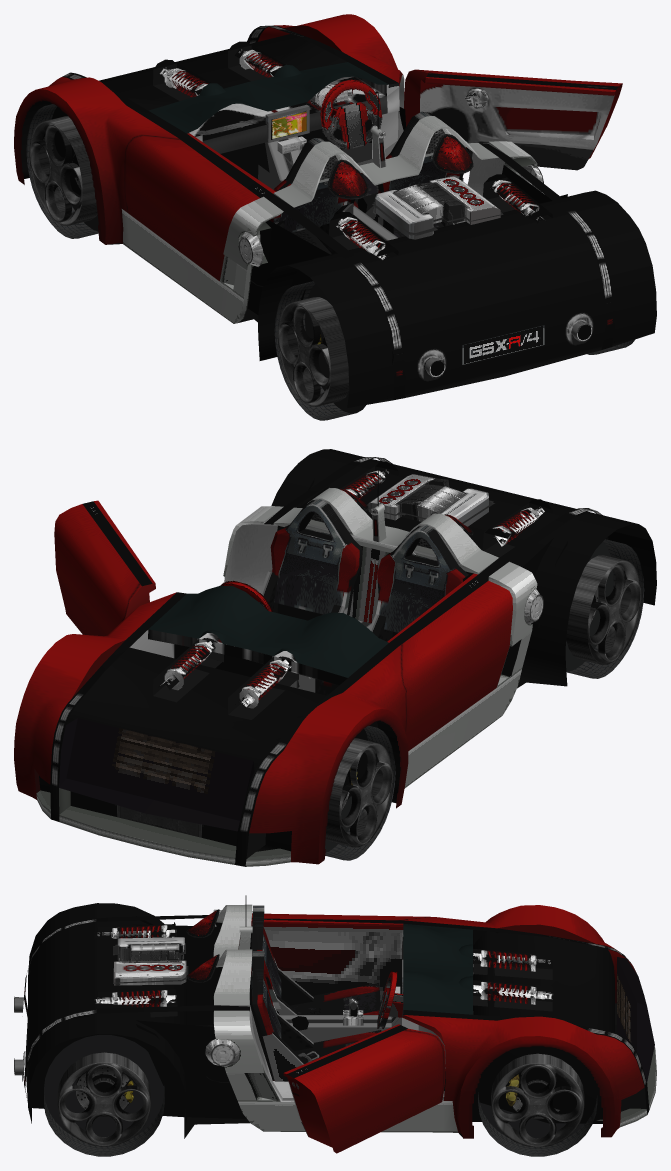
Rendered from suzk0008.glb.
The picture shows the model from 3 angles, top to bottom: view 1: azimuth 30°, elevation 25°; view 2: azimuth 150°, elevation 25°; view 3: azimuth 270°, elevation 25°; orthographic projection. The views are drawn at different scales.
Visible parts, largest first — view 1: body, wheel_rear_left, wheel_front_left, tire_rear_left, tire_front_left; view 2: body, wheel_rear_left, wheel_front_left, tire_rear_left, tire_front_left; view 3: body, tire_rear_right, wheel_rear_right, wheel_front_right, tire_front_right.
Boxes of the visible parts, x1,y1,x2,y2 form: body: [14, 14, 656, 407]; wheel_rear_left: [277, 297, 349, 406]; wheel_front_left: [29, 116, 97, 225]; tire_rear_left: [274, 281, 365, 420]; tire_front_left: [26, 104, 98, 238]; body: [14, 449, 656, 866]; wheel_rear_left: [566, 555, 641, 664]; wheel_front_left: [325, 738, 392, 847]; tire_rear_left: [565, 539, 644, 678]; tire_front_left: [325, 726, 395, 860]; body: [14, 895, 656, 1153]; tire_rear_right: [44, 1035, 164, 1156]; wheel_rear_right: [57, 1052, 150, 1146]; wheel_front_right: [491, 1053, 584, 1147]; tire_front_right: [478, 1092, 597, 1156].
Size of the model in its own units: 2.5 by 1.23 by 3.63.
Materials: 80 (79 with a texture image).
